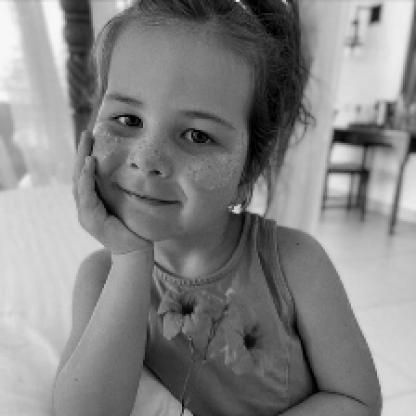child: (51, 1, 386, 415)
